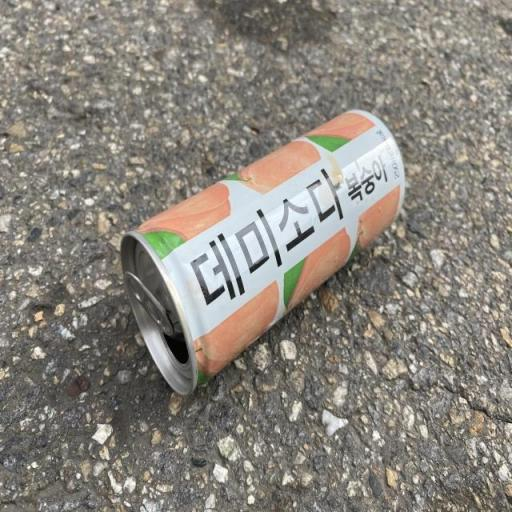metal: (104, 100, 444, 406)
